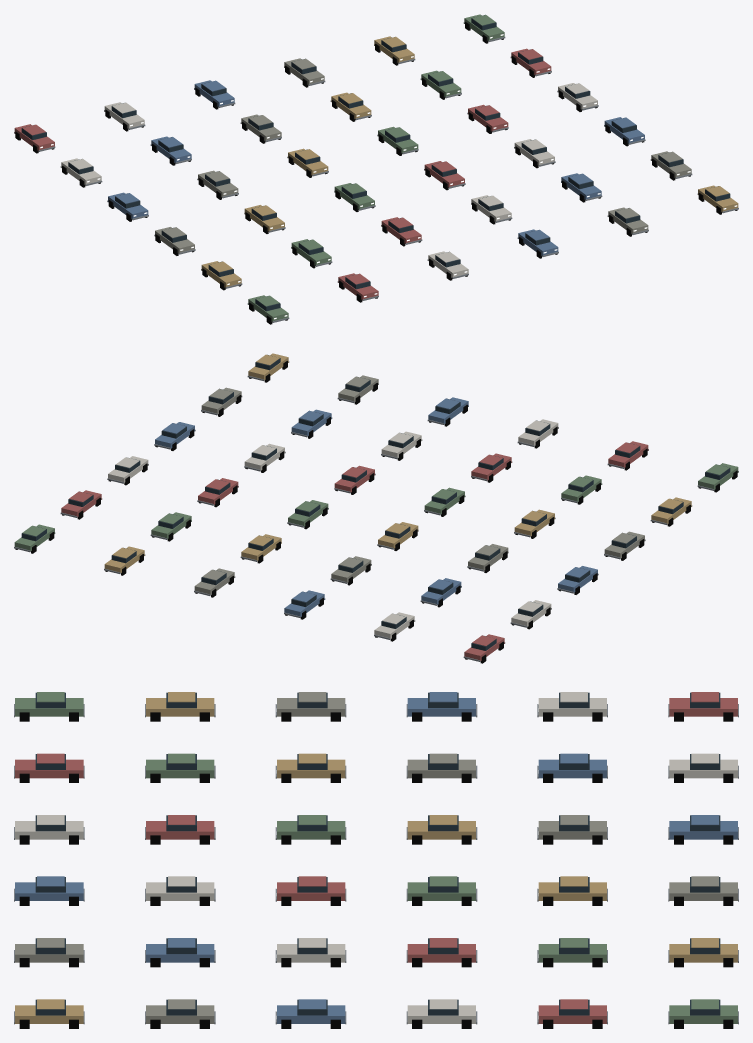
Rendered from marshalled_cars.glb.
3 renders of one model, top to bottom at view 1: azimuth 30°, elevation 25°; view 2: azimuth 150°, elevation 25°; view 3: azimuth 270°, elevation 25°, orthographic. The views are drawn at different scales.
Visible parts, largest first — view 1: LOD0; view 2: LOD0; view 3: LOD0.
Boxes of the visible parts, box(x1,y1,x2,y2) form: LOD0: box(14, 14, 738, 324); LOD0: box(14, 353, 738, 663); LOD0: box(14, 692, 738, 1028).
Size of what is drawn, in the model's own units: 51.96 by 1.42 by 49.86.
